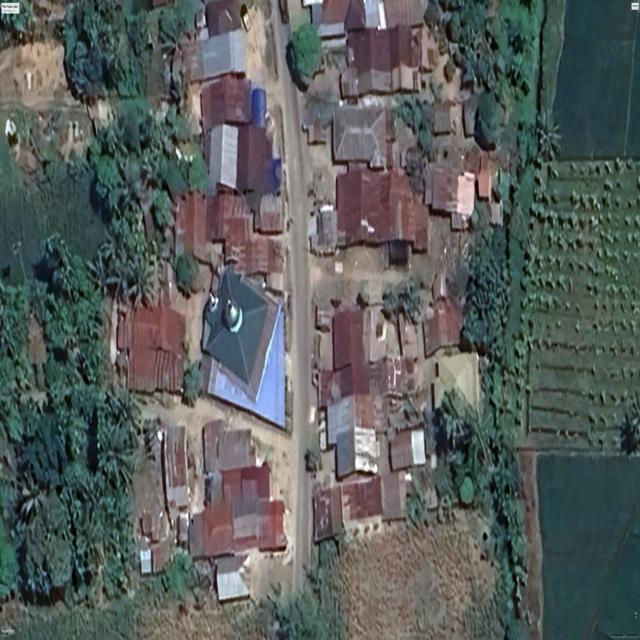Home: (200, 76, 281, 195), (318, 308, 412, 407), (336, 168, 428, 250), (206, 192, 284, 275), (340, 23, 422, 98), (188, 498, 287, 558), (326, 394, 388, 480), (312, 476, 383, 543), (332, 105, 395, 170), (423, 274, 463, 357), (202, 419, 255, 474), (175, 191, 213, 260), (222, 463, 271, 506), (254, 194, 283, 234)
mosque: (201, 267, 286, 429)
